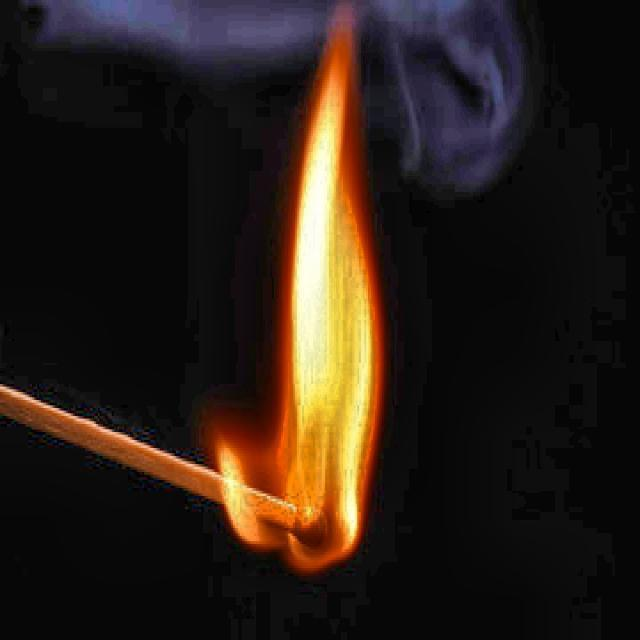Fire: (216, 4, 388, 573)
